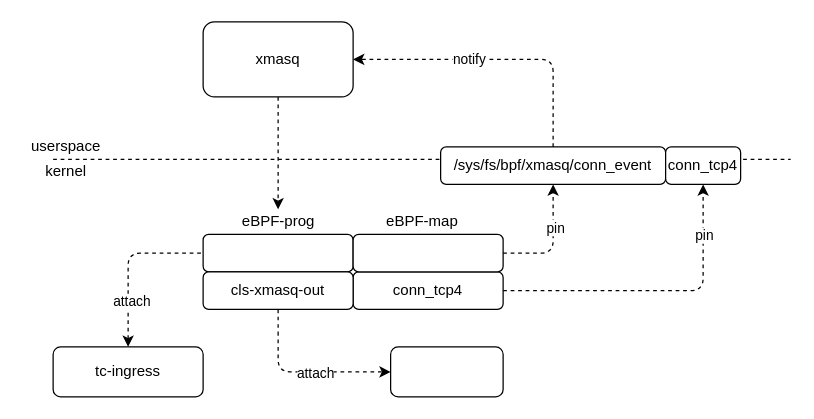
Image size: 814x419. Some labels were removed from this diagram. The shapes that lost their labels are listed below. From the top down, each one's centre as x and y in pixels, then its label:
[277,252]: cls-xmasq-in
[427,252]: conn_event
[446,371]: tc-egress
